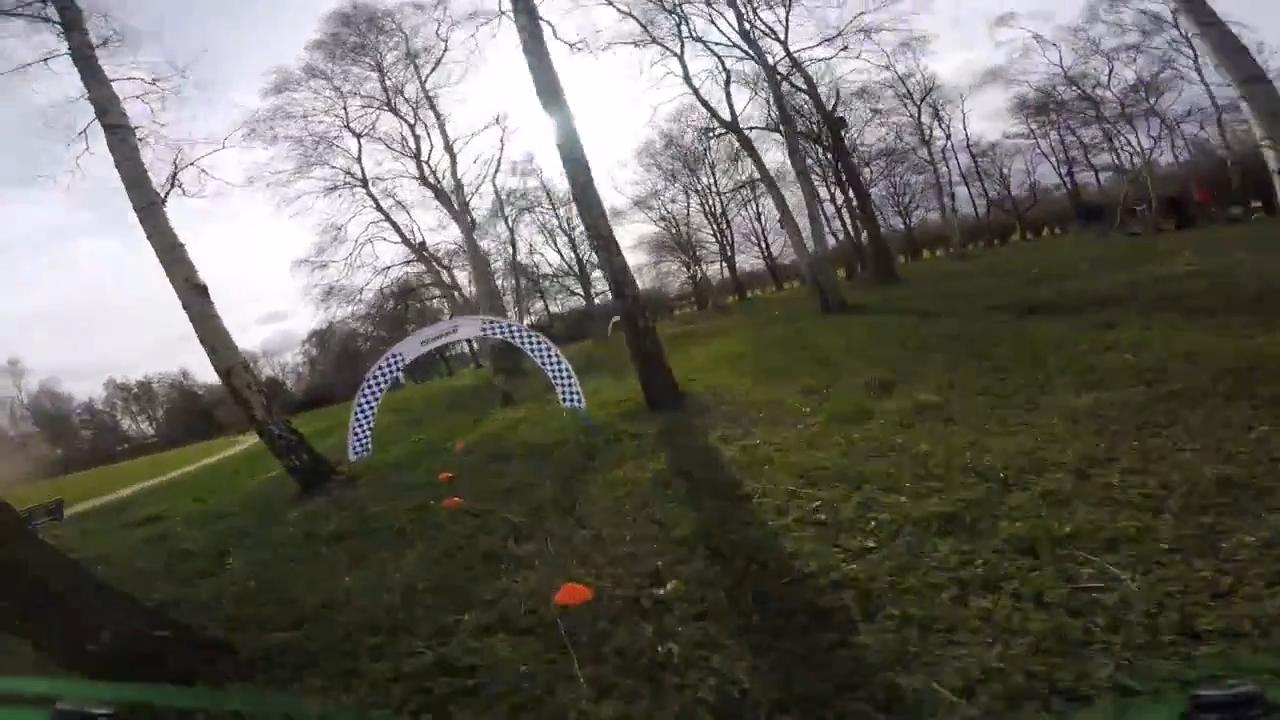gate: (347, 319, 589, 464)
